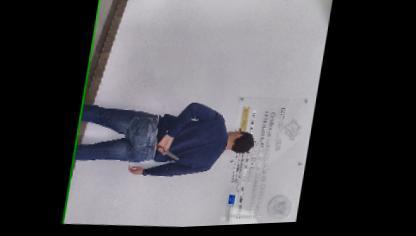knife: (154, 142, 188, 164)
